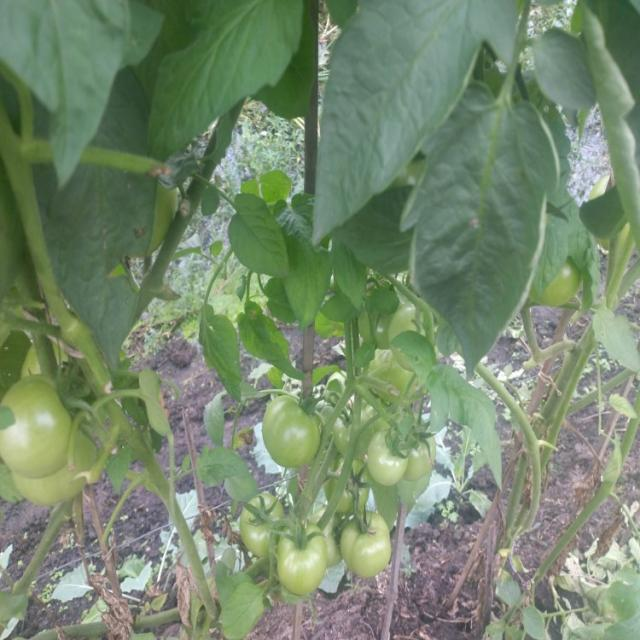tomato: (3, 341, 103, 504), (372, 427, 439, 492), (332, 514, 396, 580), (266, 397, 325, 464), (368, 345, 432, 401), (286, 519, 327, 596), (535, 265, 589, 315), (237, 490, 283, 548), (385, 305, 439, 338), (328, 469, 368, 513), (335, 403, 363, 453)
